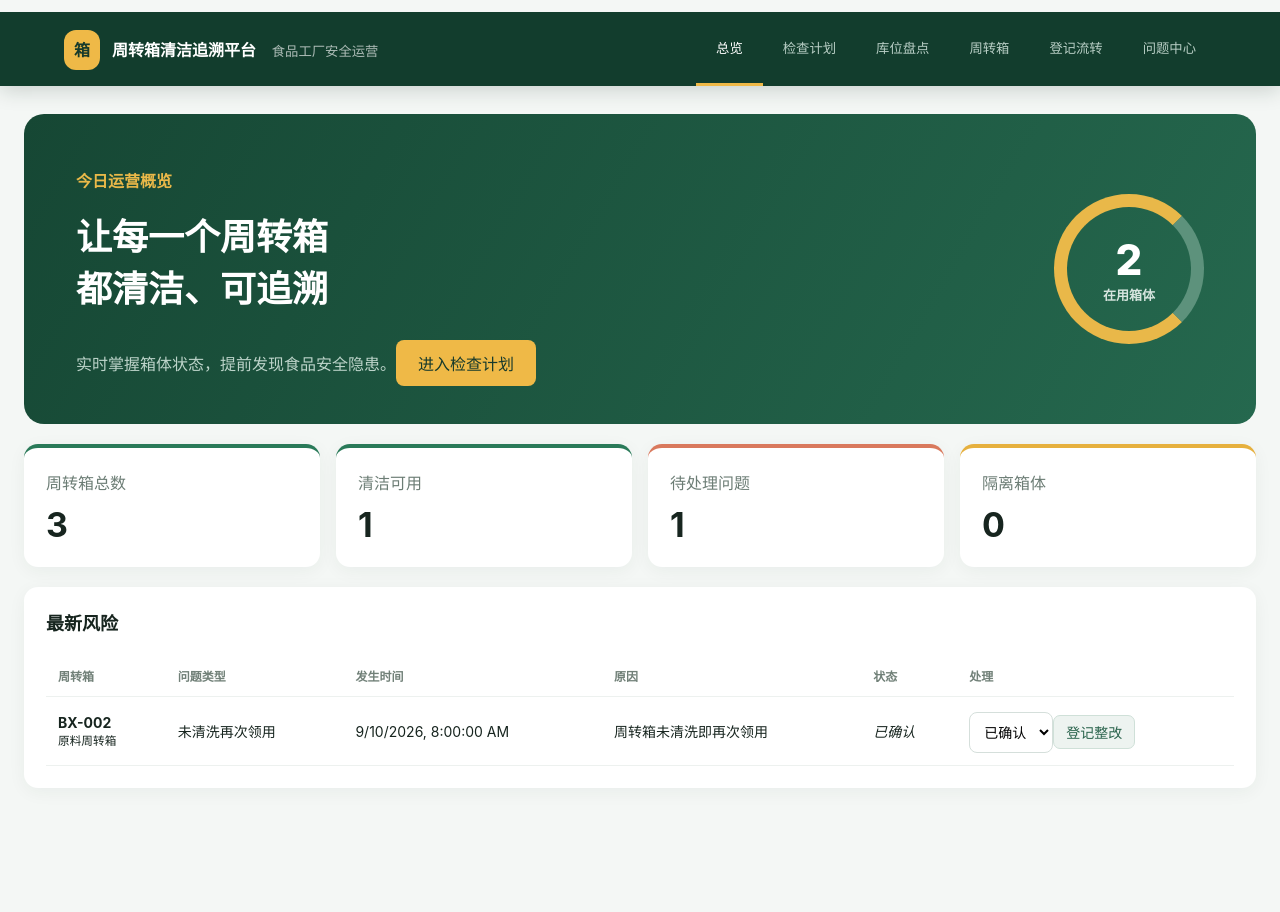
Test: rectification rejected keeps form values and issue unchanged
Expected: the text "周转箱总数" is shown, [46,473,126,493]
Click the button "问题中心" at [1169, 49], box [1123,12,1216,86]
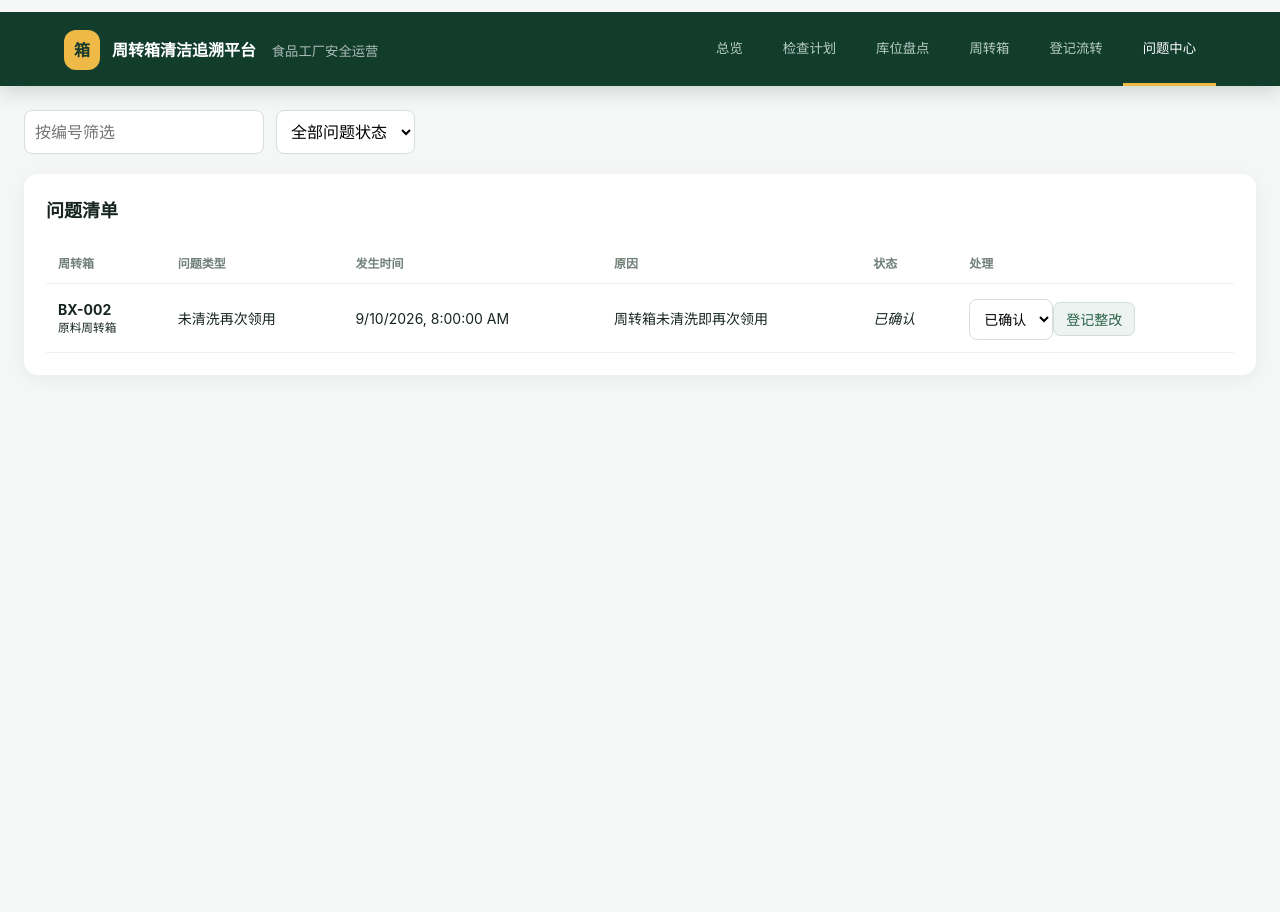
Expected: the text "BX-002" is shown, [58,301,111,318]
Click the button "登记整改" at [1094, 319], box [1053,302,1135,336]
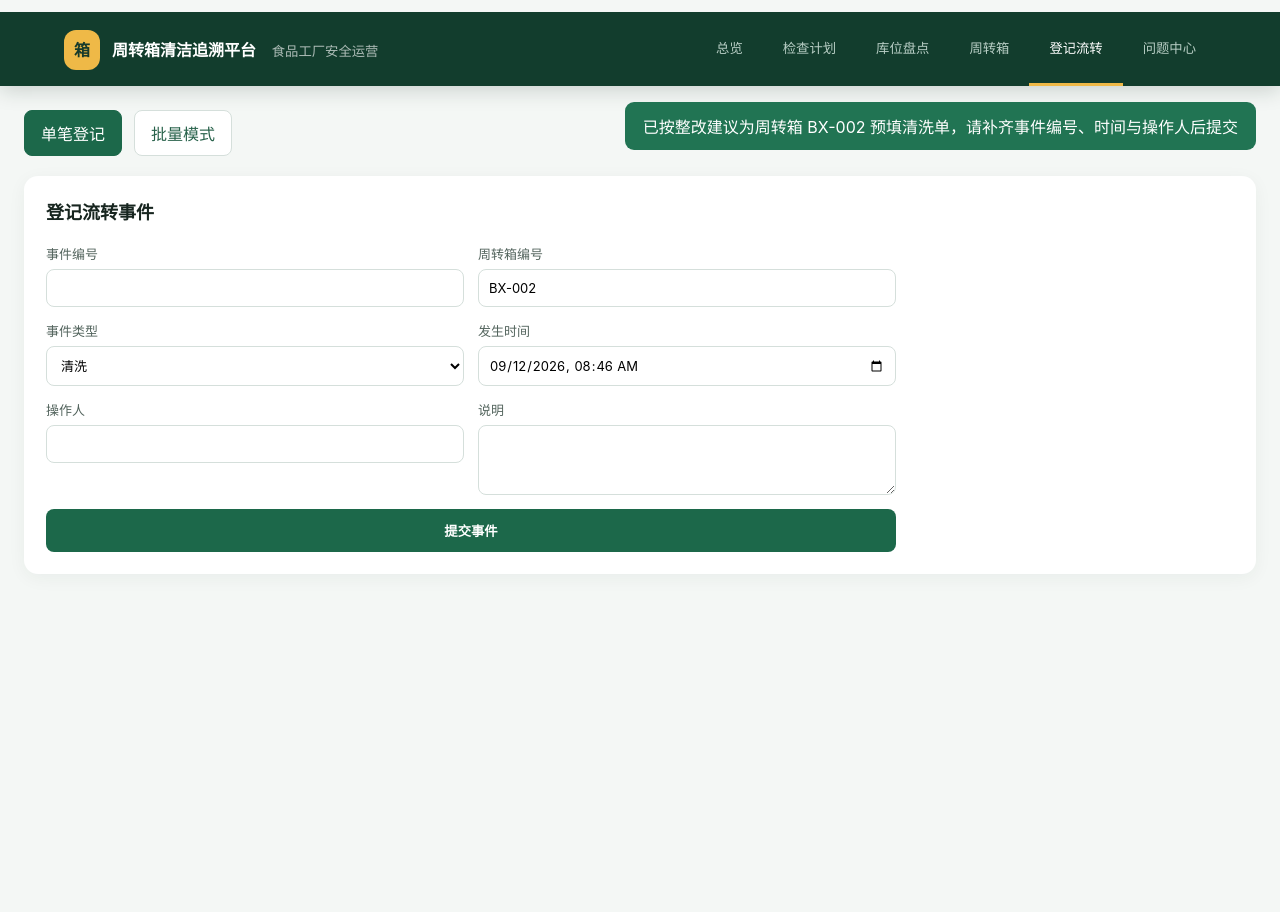
Type "EV-W-X" into the field labelled "事件编号" at [255, 288], box [46,269,464,307]
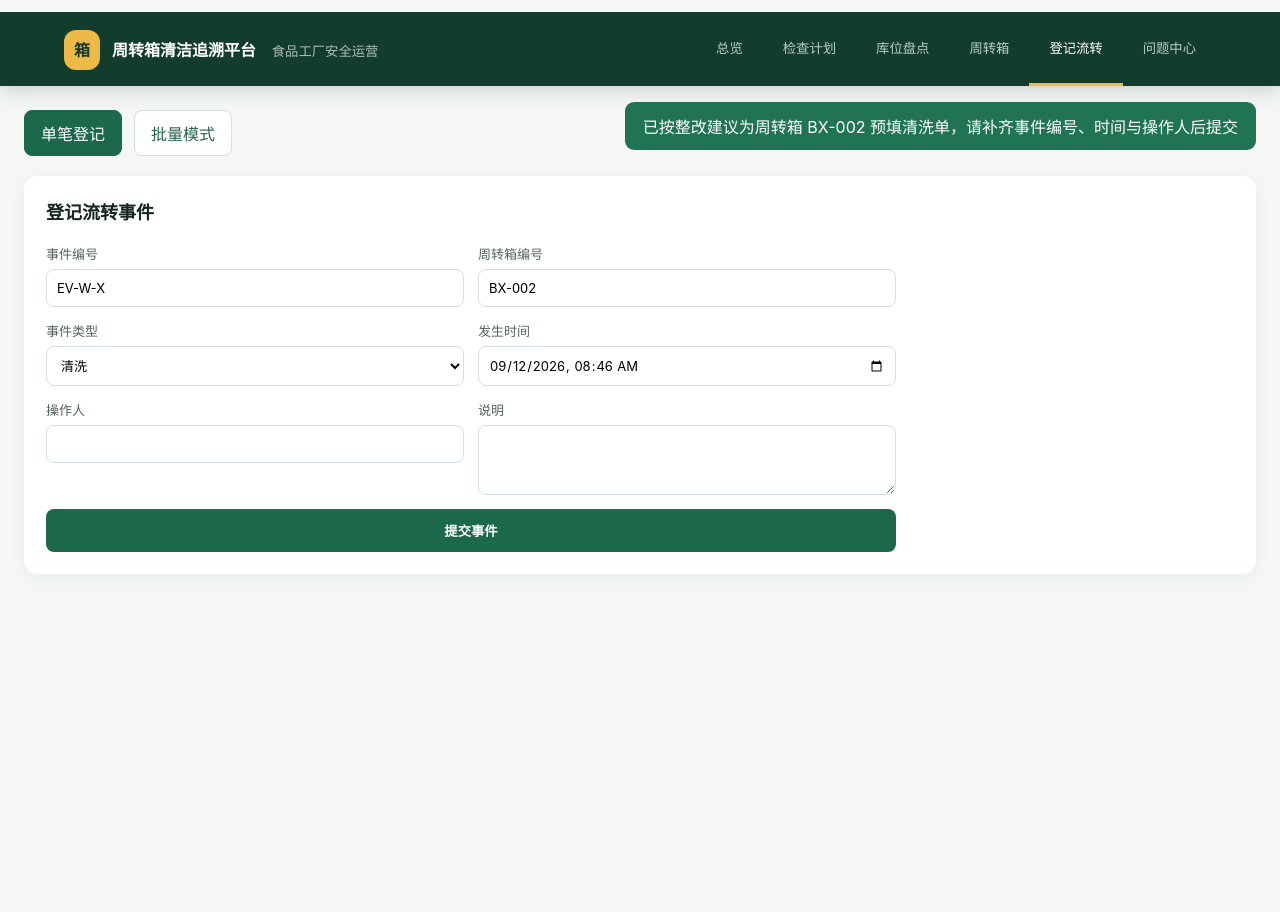
Type "王工" into the field labelled "操作人" at [255, 444], box [46,425,464,463]
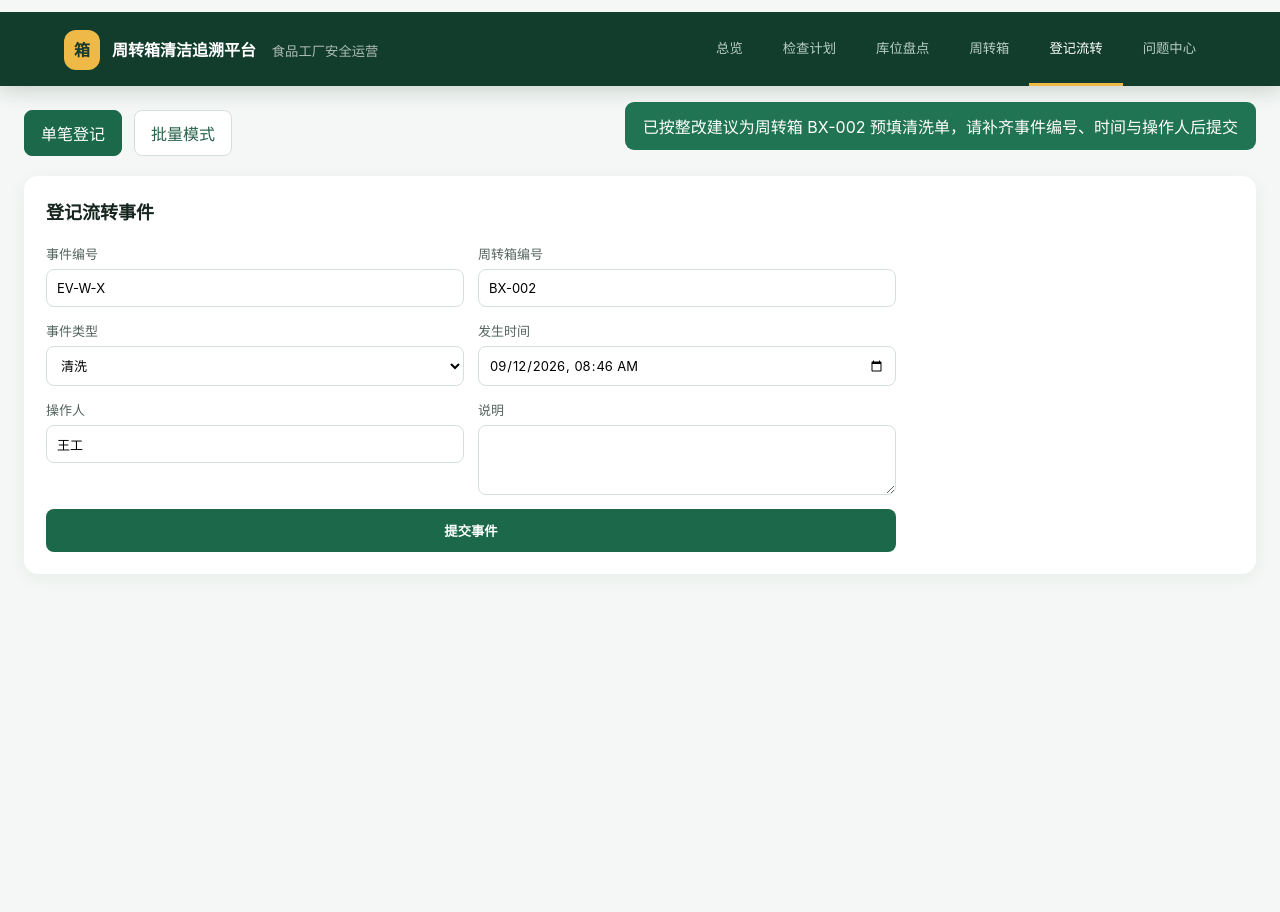
Click the button "提交事件" at [471, 530], box [46,509,896,552]
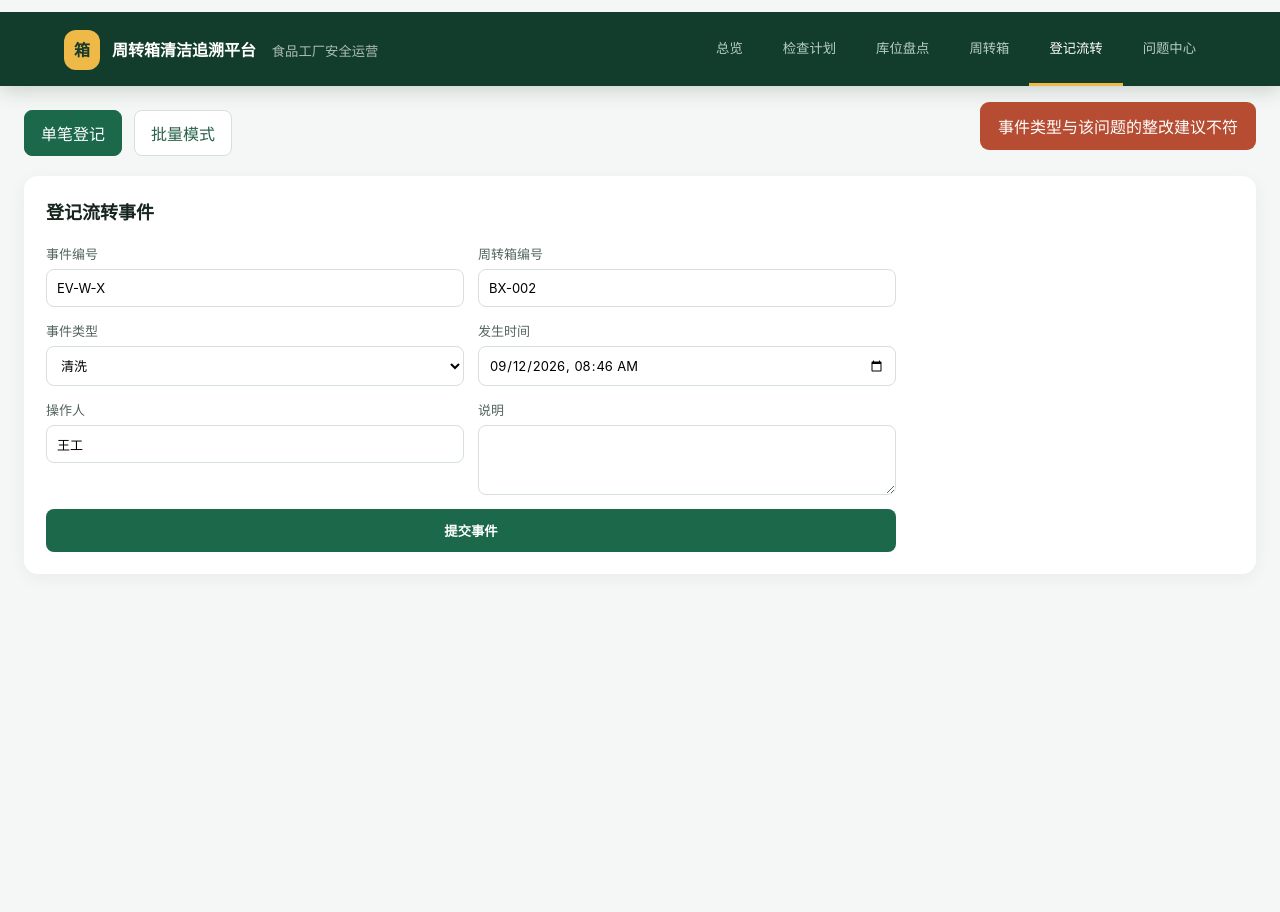
Now the heading "登记流转事件" is shown, box [46,202,154,223]
Now the text "事件类型与该问题的整改建议不符" is shown, box [980,102,1256,150]
